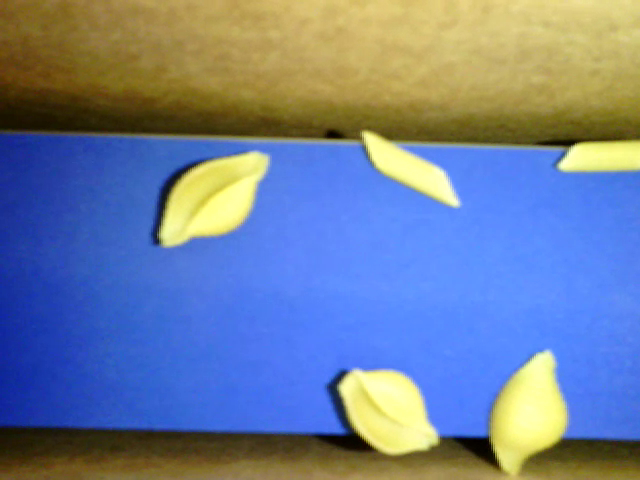penne: (359, 129, 460, 207), (556, 140, 639, 173)
shell: (157, 149, 271, 247), (492, 349, 569, 475), (336, 367, 437, 456)
